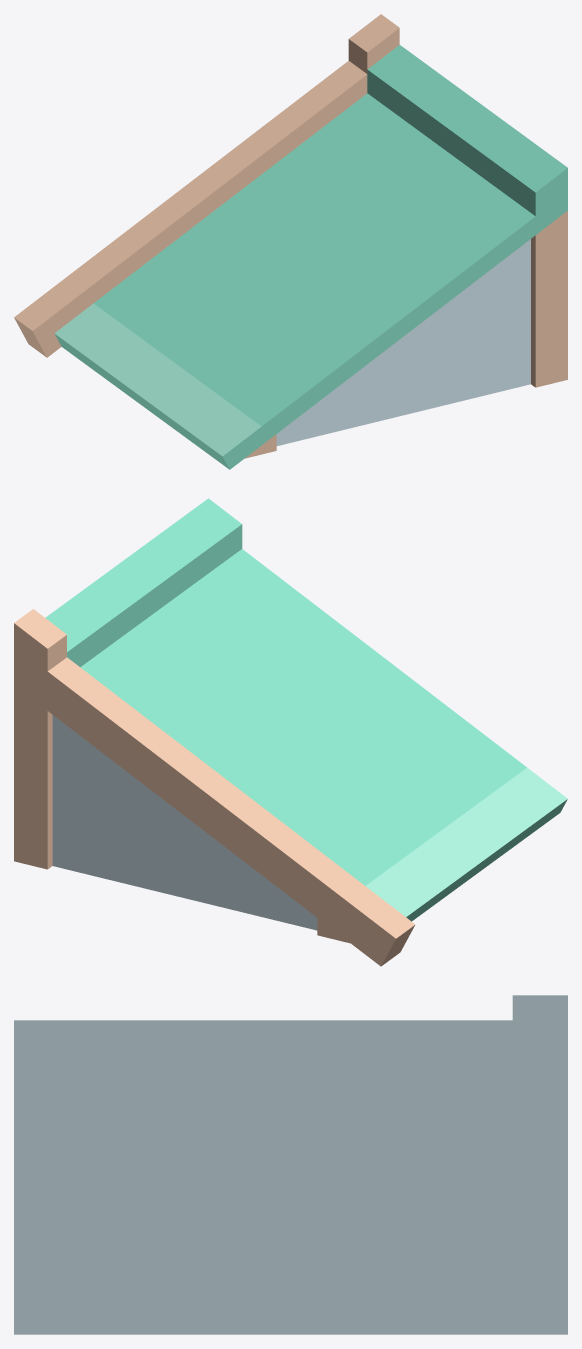
3 views of the same model, one above another, from view 1: azimuth 30°, elevation 25°; view 2: azimuth 150°, elevation 25°; view 3: azimuth 270°, elevation 25° (orthographic). The views are drawn at different scales.
Parts seen in each view (by area): view 1: roofLeft; view 2: roofLeft; view 3: roofLeft.
Part boxes in pixels (left/top/right/bottom): roofLeft: left=14, top=14, right=567, bottom=469; roofLeft: left=14, top=498, right=567, bottom=966; roofLeft: left=14, top=995, right=567, bottom=1334.
Size of the model in its own units: 1.13 by 0.7206 by 1.
